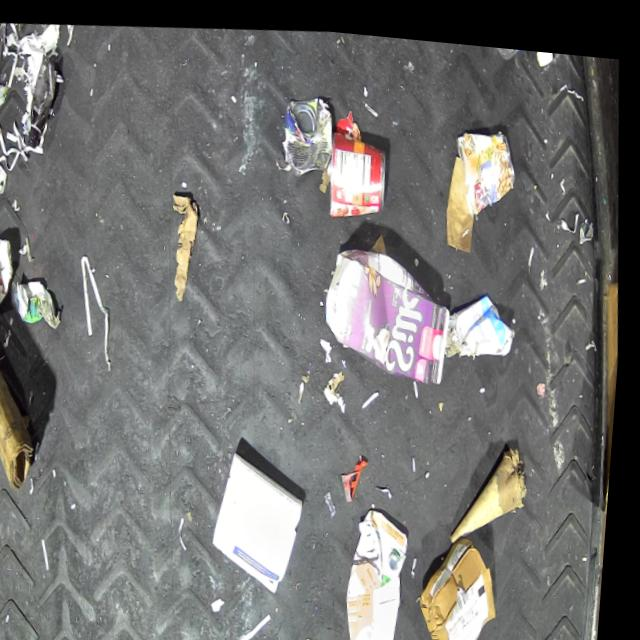can: (324, 120, 393, 216), (451, 116, 522, 209), (277, 85, 339, 174), (0, 231, 21, 318)
non_white_jug: (321, 228, 461, 383), (345, 498, 426, 640)
